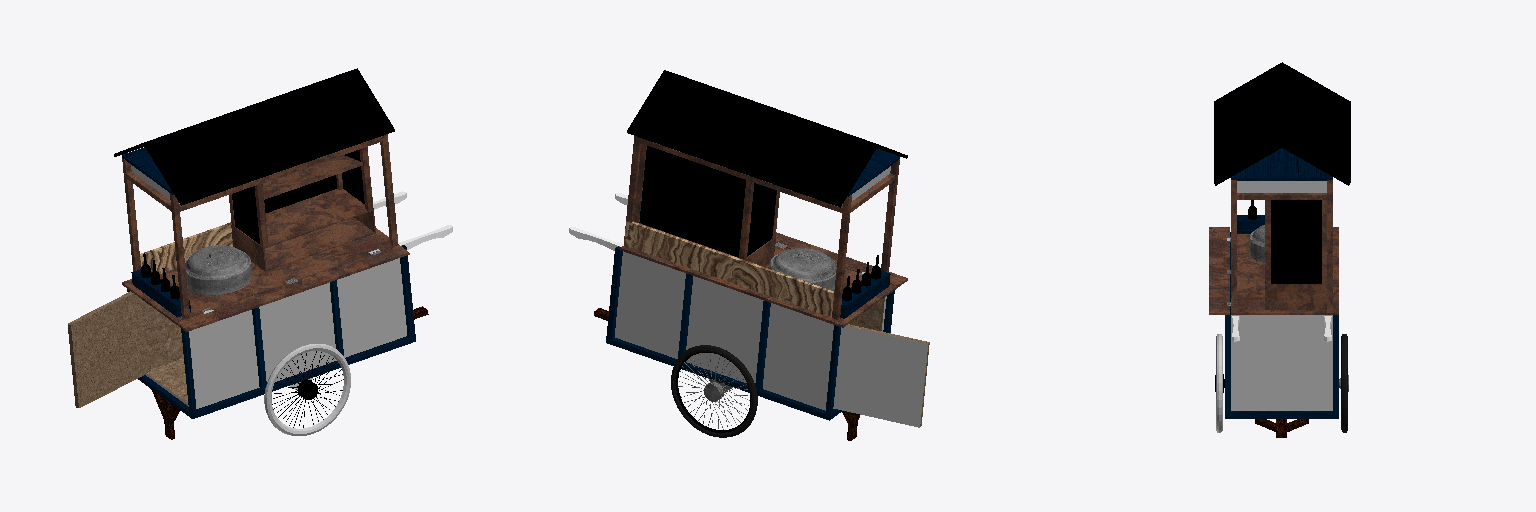
3 renders of one model, left to right at view 1: azimuth 30°, elevation 25°; view 2: azimuth 150°, elevation 25°; view 3: azimuth 270°, elevation 25°, orthographic.
Visible parts, largest first — view 1: main_body, roof, stove_door, foodbox, holder_pillar_1, bodybase, wood_frame, flipable_plank, Torus, edge_plank, pot_cap, holder_plank (+9 smaller); view 2: main_body, roof, glass_wide, stove_door, edge_plank, holder_pillar_1, wood_frame, bodybase, wheel_and_rim, pot_cap, glass_2, 2_wood_frame_ (+6 smaller); view 3: roof, main_body, glass_1, holder_pillar_1, bodybase, wood_frame, top_plank, flipable_plank, foodbox, foodstock_stand, Torus, wheel_and_rim (+1 smaller).
Boxes of the visible parts, x1=… form: main_body: x1=141, y1=258, x2=406, y2=408; roof: x1=114, y1=68, x2=394, y2=205; stove_door: x1=68, y1=291, x2=147, y2=407; foodbox: x1=231, y1=189, x2=375, y2=271; holder_pillar_1: x1=122, y1=134, x2=397, y2=317; bodybase: x1=122, y1=228, x2=398, y2=323; wood_frame: x1=127, y1=245, x2=415, y2=418; flipable_plank: x1=176, y1=245, x2=409, y2=331; Torus: x1=264, y1=344, x2=350, y2=435; edge_plank: x1=140, y1=222, x2=232, y2=273; pot_cap: x1=185, y1=245, x2=248, y2=278; holder_plank: x1=263, y1=155, x2=362, y2=199; main_body: x1=615, y1=251, x2=886, y2=410; roof: x1=627, y1=70, x2=907, y2=207; glass_wide: x1=639, y1=146, x2=745, y2=257; stove_door: x1=833, y1=324, x2=929, y2=427; edge_plank: x1=624, y1=221, x2=833, y2=317; holder_pillar_1: x1=624, y1=136, x2=899, y2=319; wood_frame: x1=606, y1=246, x2=894, y2=420; bodybase: x1=620, y1=246, x2=896, y2=327; wheel_and_rim: x1=671, y1=345, x2=757, y2=437; pot_cap: x1=772, y1=248, x2=836, y2=280; glass_2: x1=747, y1=183, x2=776, y2=256; 2_wood_frame_: x1=678, y1=273, x2=770, y2=390; roof: x1=1214, y1=62, x2=1350, y2=185; main_body: x1=1231, y1=315, x2=1332, y2=410; glass_1: x1=1271, y1=200, x2=1321, y2=283; holder_pillar_1: x1=1231, y1=180, x2=1332, y2=312; bodybase: x1=1231, y1=227, x2=1338, y2=314; wood_frame: x1=1225, y1=232, x2=1338, y2=418; top_plank: x1=1231, y1=148, x2=1332, y2=180; flipable_plank: x1=1209, y1=227, x2=1229, y2=314; foodbox: x1=1265, y1=284, x2=1326, y2=309; foodstock_stand: x1=1265, y1=200, x2=1326, y2=283; Torus: x1=1216, y1=334, x2=1222, y2=432; wheel_and_rim: x1=1341, y1=334, x2=1347, y2=432.
Size of the model in its own units: 99.04 by 87.91 by 34.69.
35 materials, 28 textured.